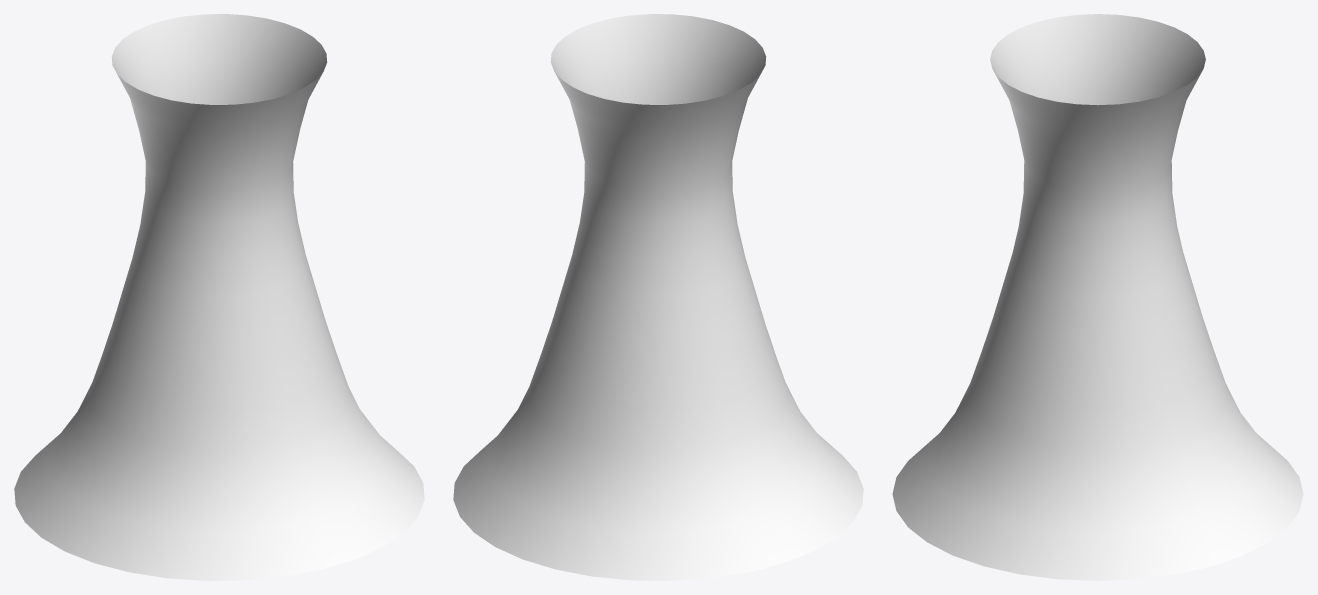
The model's file is tornado.fbx.
3 renders of one model, left to right at view 1: azimuth 30°, elevation 25°; view 2: azimuth 150°, elevation 25°; view 3: azimuth 270°, elevation 25°, orthographic.
Visible parts, largest first — view 1: Cone; view 2: Cone; view 3: Cone.
Part boxes in pixels (box(x1,y1,x2,y2)): Cone: box(14, 14, 424, 580); Cone: box(453, 14, 863, 580); Cone: box(892, 14, 1303, 580).
Bounding box in the file's own units: 2695 × 3144 × 2695.
